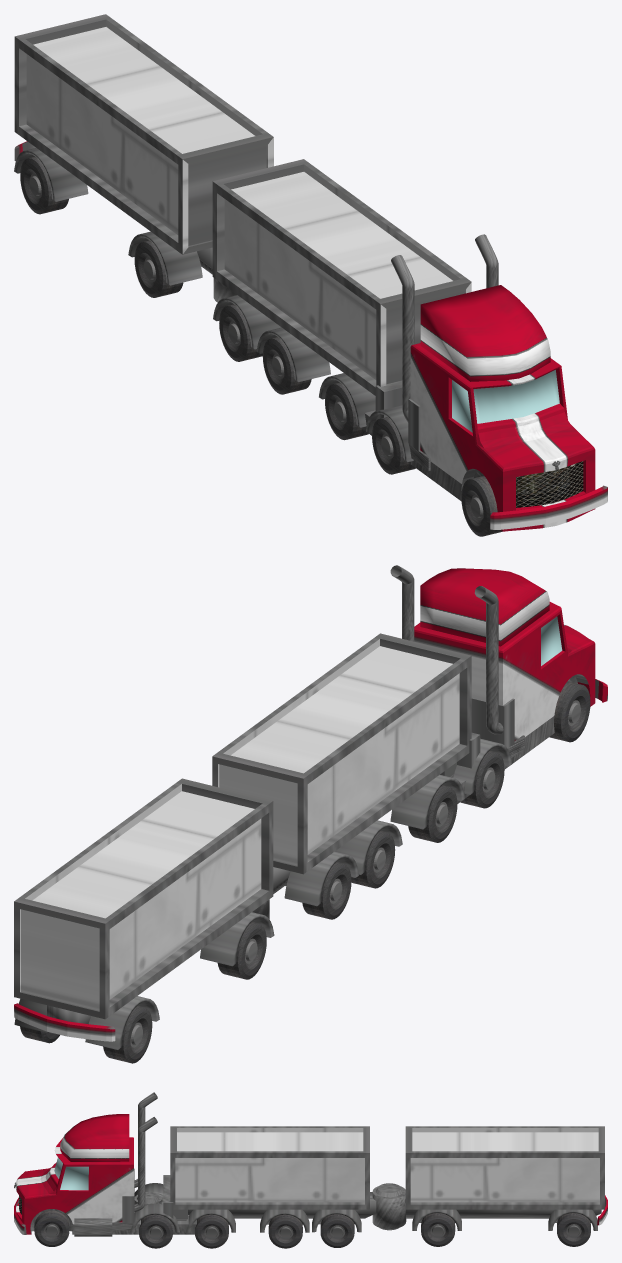
Rendered from Truck 8.fbx.
3 views of the same model, one above another, from view 1: azimuth 30°, elevation 25°; view 2: azimuth 150°, elevation 25°; view 3: azimuth 270°, elevation 25° (orthographic). The views are drawn at different scales.
Visible parts, largest first — view 1: Cylinder; view 2: Cylinder; view 3: Cylinder.
Part boxes in pixels (box(x1,y1,x2,y2)): Cylinder: box(14, 14, 607, 536); Cylinder: box(14, 565, 607, 1063); Cylinder: box(14, 1092, 607, 1248).
Size of the model in its own units: 576 by 1009 by 4224.
